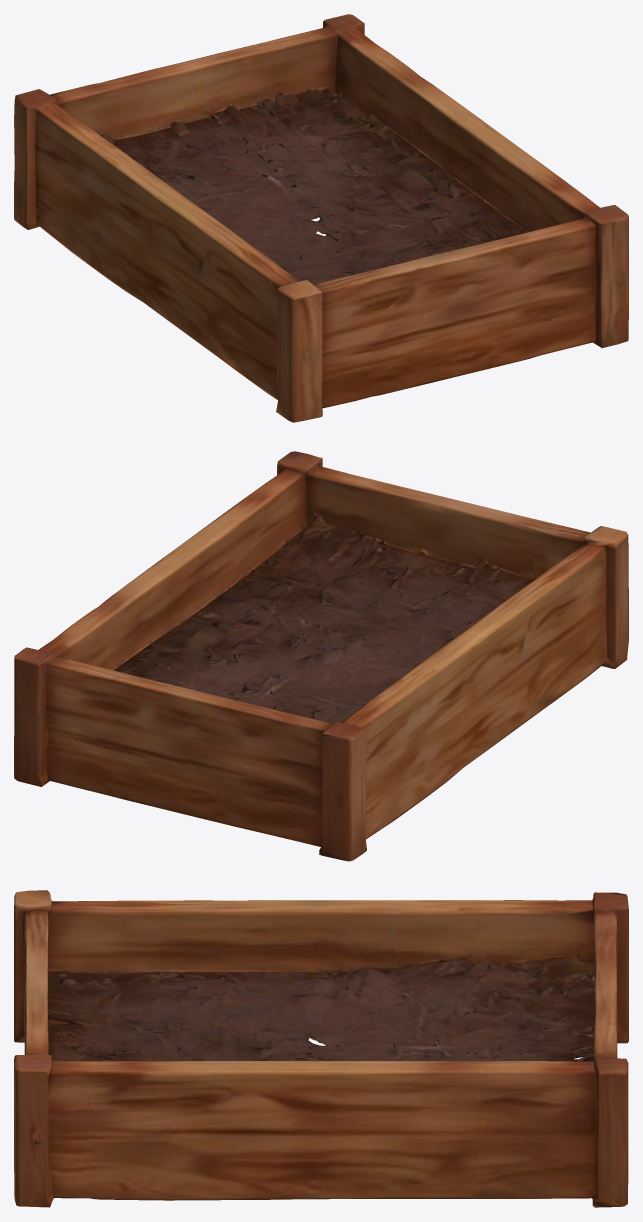
Rendered from bed.glb.
The picture shows the model from 3 angles, top to bottom: view 1: azimuth 30°, elevation 25°; view 2: azimuth 150°, elevation 25°; view 3: azimuth 270°, elevation 25°; orthographic projection. The views are drawn at different scales.
Bounding box in the file's own units: 0.6993 × 0.2455 × 0.998.
1 material, 1 textured.
